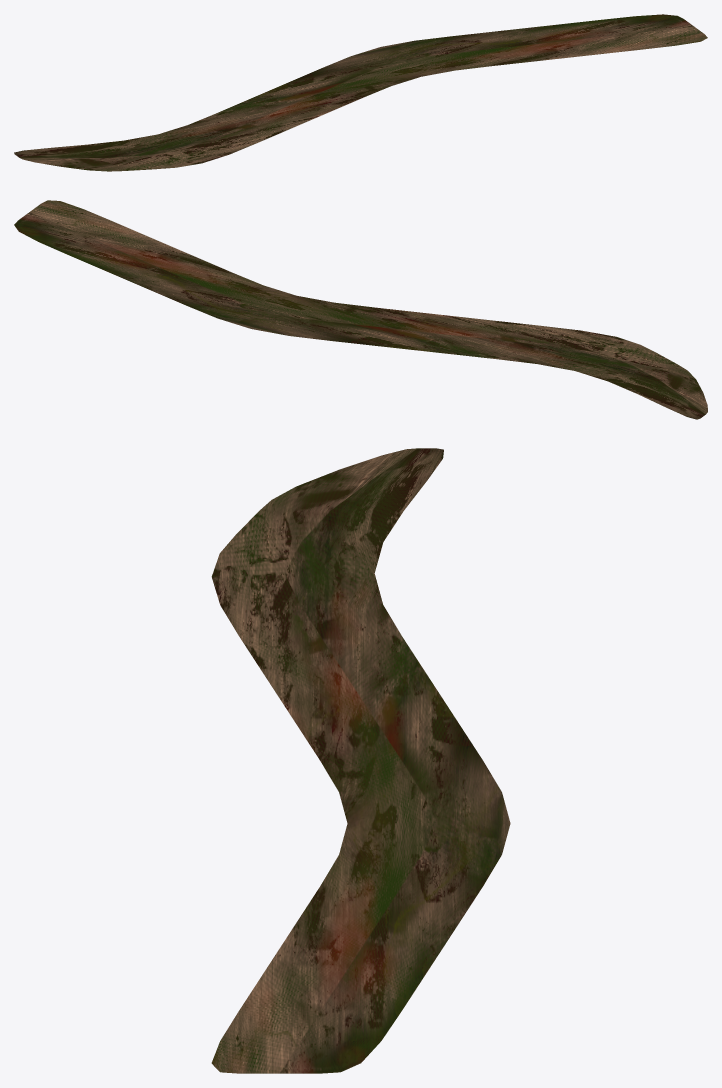
Rendered from Grieta.fbx.
The picture shows the model from 3 angles, top to bottom: view 1: azimuth 30°, elevation 25°; view 2: azimuth 150°, elevation 25°; view 3: azimuth 270°, elevation 25°; orthographic projection. The views are drawn at different scales.
Visible parts, largest first — view 1: Cube; view 2: Cube; view 3: Cube.
Boxes of the visible parts, x1,y1,x2,y2 form: Cube: (14, 14, 707, 171); Cube: (14, 200, 707, 419); Cube: (211, 448, 510, 1073).
Bounding box in the file's own units: 540 × 1.78e-05 × 109.
Materials: 1 (1 with a texture image).
